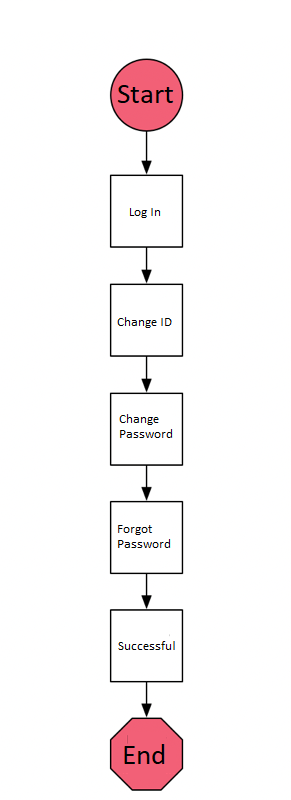arrow: (138, 569, 155, 611), (137, 353, 154, 392), (141, 129, 155, 175), (138, 681, 154, 720), (138, 462, 153, 503), (140, 247, 155, 284)
connection: (105, 56, 188, 134)
process: (103, 714, 188, 794), (107, 170, 187, 251), (107, 280, 186, 361), (107, 607, 188, 686), (105, 498, 186, 576), (107, 390, 186, 469)
text: (114, 522, 172, 551), (116, 411, 172, 441), (115, 81, 176, 108), (120, 741, 169, 767), (114, 637, 180, 655), (111, 313, 174, 330), (126, 202, 164, 220)
